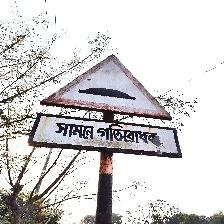Speed-breaker: (30, 54, 178, 158)
